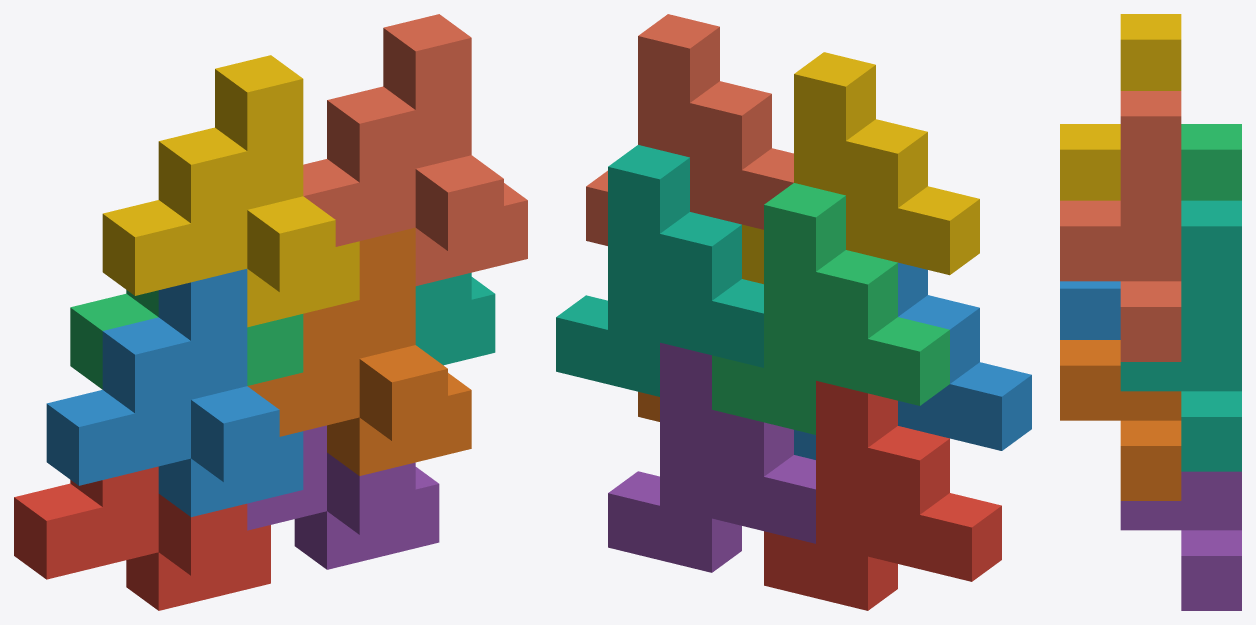
File: tiling.obj
3 views of the same model, side by side, from view 1: azimuth 30°, elevation 25°; view 2: azimuth 150°, elevation 25°; view 3: azimuth 270°, elevation 25° (orthographic). The views are drawn at different scales.
Visible parts, largest first — view 1: copy_1_domain_4, copy_1_domain_2, copy_1_domain_8, copy_1_domain_6, copy_1_domain_1, copy_1_domain_5, copy_1_domain_3, copy_1_domain_7; view 2: copy_1_domain_3, copy_1_domain_1, copy_1_domain_7, copy_1_domain_5, copy_1_domain_4, copy_1_domain_8, copy_1_domain_2; view 3: copy_1_domain_8, copy_1_domain_7, copy_1_domain_6, copy_1_domain_5, copy_1_domain_4, copy_1_domain_3, copy_1_domain_2.
Part boxes in pixels (<box>): copy_1_domain_4: <box>102,55,359,327</box>; copy_1_domain_2: <box>46,269,303,517</box>; copy_1_domain_8: <box>303,14,527,285</box>; copy_1_domain_6: <box>247,227,471,475</box>; copy_1_domain_1: <box>14,466,270,610</box>; copy_1_domain_5: <box>247,425,439,569</box>; copy_1_domain_3: <box>70,290,303,389</box>; copy_1_domain_7: <box>415,272,495,365</box>; copy_1_domain_3: <box>712,183,949,434</box>; copy_1_domain_1: <box>764,380,1001,610</box>; copy_1_domain_7: <box>556,145,763,396</box>; copy_1_domain_5: <box>608,342,815,572</box>; copy_1_domain_4: <box>742,52,979,284</box>; copy_1_domain_8: <box>586,14,793,245</box>; copy_1_domain_2: <box>794,262,1031,459</box>; copy_1_domain_8: <box>1060,91,1181,361</box>; copy_1_domain_7: <box>1120,200,1241,471</box>; copy_1_domain_6: <box>1060,340,1181,500</box>; copy_1_domain_5: <box>1120,471,1241,610</box>; copy_1_domain_4: <box>1060,14,1181,200</box>; copy_1_domain_3: <box>1181,124,1241,200</box>; copy_1_domain_2: <box>1060,281,1120,339</box>.
Bounding box in the file's own units: 8 × 9 × 3.
